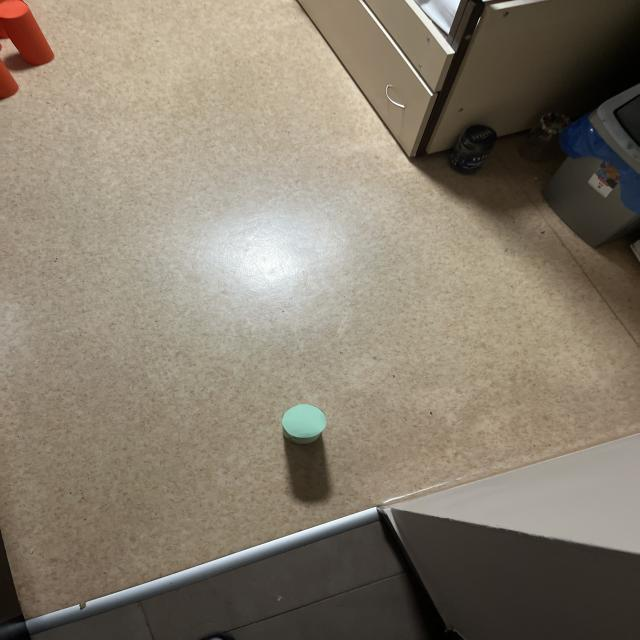meta: (282, 404, 326, 444)
